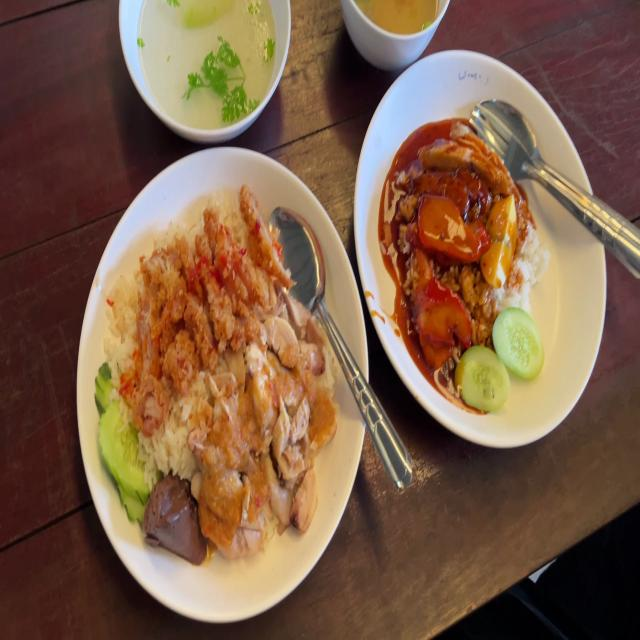01boiled_egg: (483, 190, 519, 288)
01chainese_sausage: (417, 160, 492, 216)
01crispy_pork: (416, 128, 517, 192)
01red_pork: (416, 191, 493, 263), (411, 278, 470, 362)
01red_pork_and_crispy_pork: (396, 123, 553, 414)
boiled_chicken: (205, 311, 336, 544)
boiled_chicken_blood_jelly: (144, 471, 208, 564)
chicken_rice: (98, 184, 342, 562)
cucumber: (93, 362, 149, 524), (491, 306, 546, 382), (458, 347, 510, 416)
fried_chicken: (126, 184, 294, 422)
